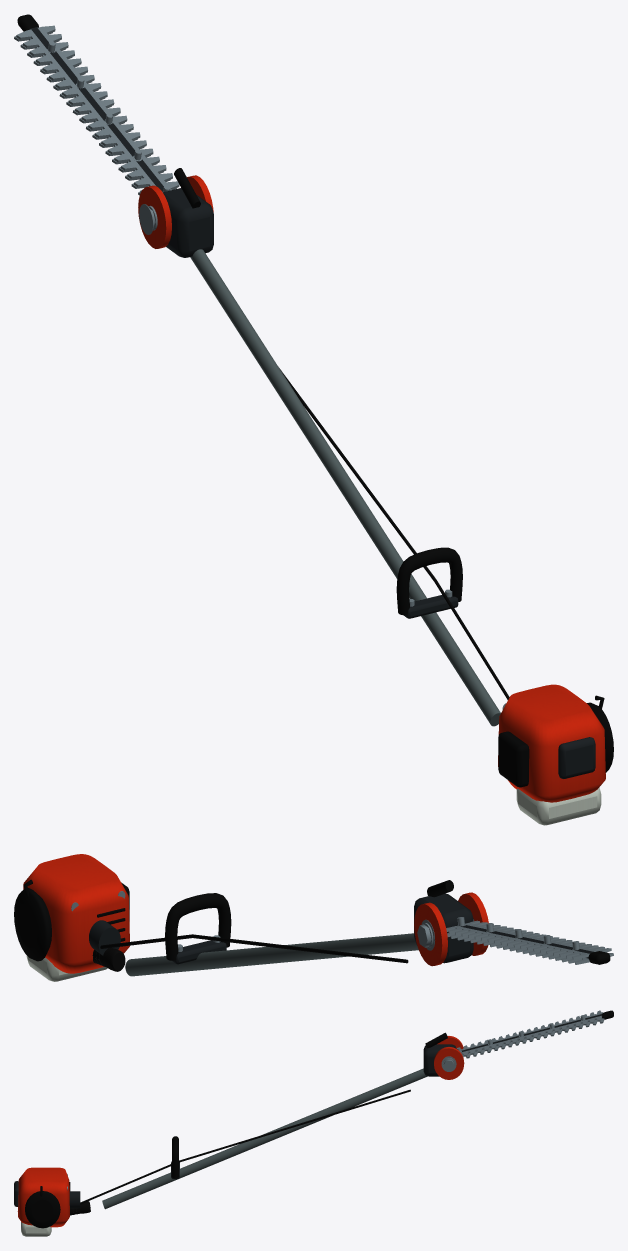
Rendered from ArticulatingHedgeTrimmer.gltf.
3 renders of one model, top to bottom at view 1: azimuth 30°, elevation 25°; view 2: azimuth 210°, elevation 25°; view 3: azimuth 270°, elevation 25°, orthographic. The views are drawn at different scales.
Parts seen in each view (by area): view 1: ArticulatingHedgeTrimmer__Body; view 2: ArticulatingHedgeTrimmer__Body; view 3: ArticulatingHedgeTrimmer__Body.
Boxes of the visible parts, x1,y1,x2,y2 form: ArticulatingHedgeTrimmer__Body: (14,14,613,825); ArticulatingHedgeTrimmer__Body: (14,854,613,981); ArticulatingHedgeTrimmer__Body: (14,1010,613,1236).
Bounding box in the file's own units: 0.2193 × 0.875 × 2.17.
1 material, 1 textured.
